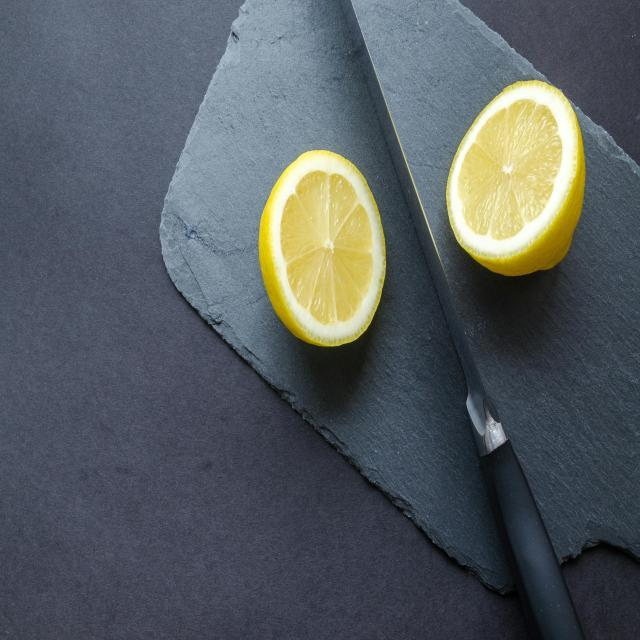Knife: (349, 0, 585, 640)
